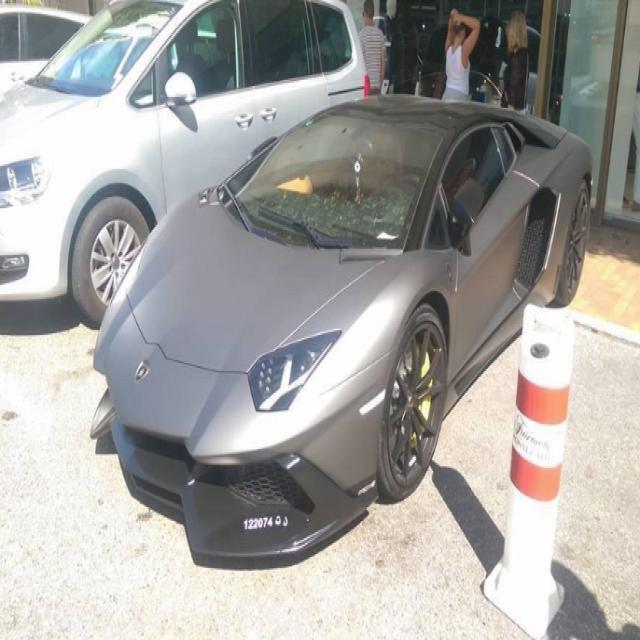licence plate: (243, 513, 289, 531)
